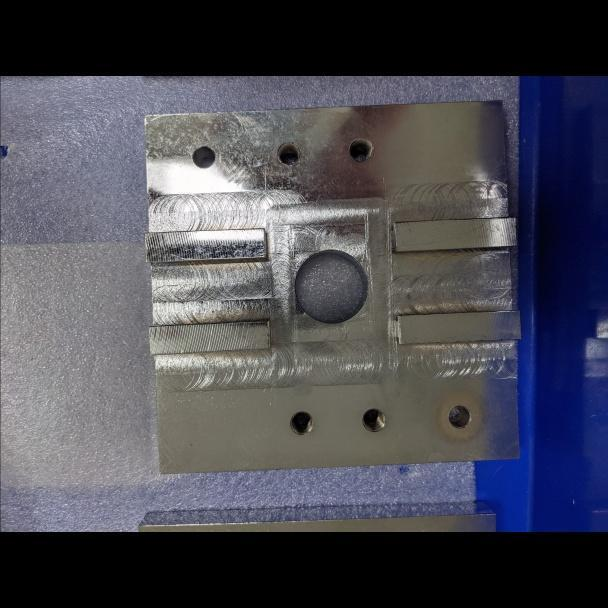hole: (186, 136, 220, 177), (441, 397, 473, 433), (345, 131, 376, 168), (356, 404, 391, 436), (287, 407, 318, 442), (273, 137, 304, 172)
